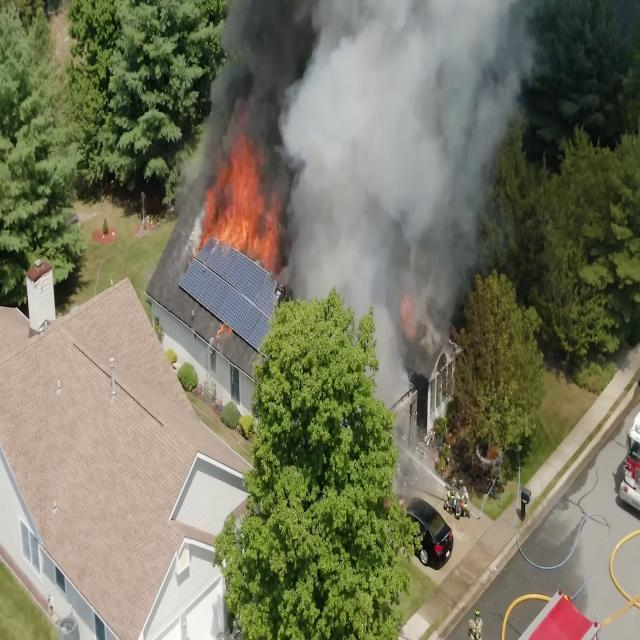Fire: (209, 126, 284, 249)
Smoke: (304, 12, 408, 303), (230, 6, 299, 130)
